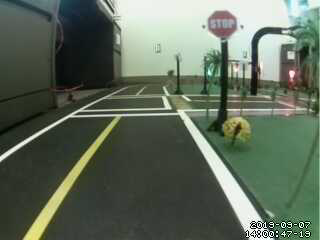Stop_Sign: (200, 9, 248, 44)
